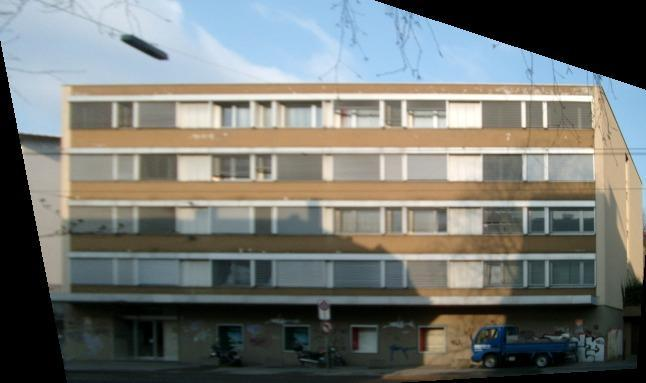window: (548, 154, 597, 182), (549, 261, 597, 289), (333, 100, 381, 128), (333, 154, 381, 182), (333, 207, 381, 235), (333, 260, 381, 288), (275, 260, 323, 288), (549, 208, 596, 236), (548, 101, 593, 130), (278, 207, 324, 235), (277, 100, 323, 128), (407, 261, 450, 290), (277, 154, 323, 181), (70, 154, 113, 182), (70, 205, 113, 233), (407, 100, 449, 128), (70, 102, 112, 130), (71, 259, 114, 286), (483, 208, 525, 235), (481, 101, 523, 128), (483, 155, 524, 182), (485, 261, 526, 288), (139, 154, 177, 183), (213, 261, 252, 289), (139, 207, 176, 236), (139, 101, 177, 129), (212, 101, 251, 128), (212, 154, 251, 181), (407, 208, 449, 233), (407, 155, 449, 180), (211, 207, 249, 234), (140, 260, 177, 286), (528, 207, 546, 235), (526, 101, 544, 129), (116, 101, 134, 129), (385, 261, 403, 289), (528, 260, 545, 288), (528, 154, 545, 182), (385, 100, 402, 128), (385, 154, 402, 182), (386, 207, 403, 235), (256, 101, 273, 129), (255, 153, 272, 181), (255, 207, 272, 235), (255, 261, 272, 289), (117, 258, 134, 286), (116, 206, 133, 234), (118, 153, 135, 181)
